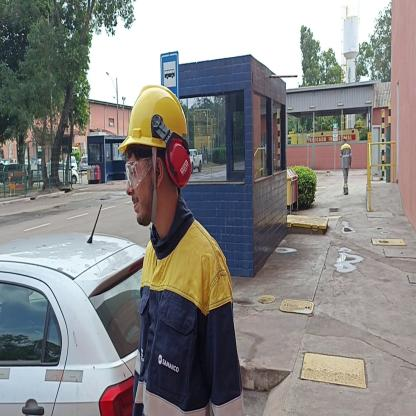C_eletrica: (140, 240, 242, 416)
Capacete: (122, 83, 191, 149)
